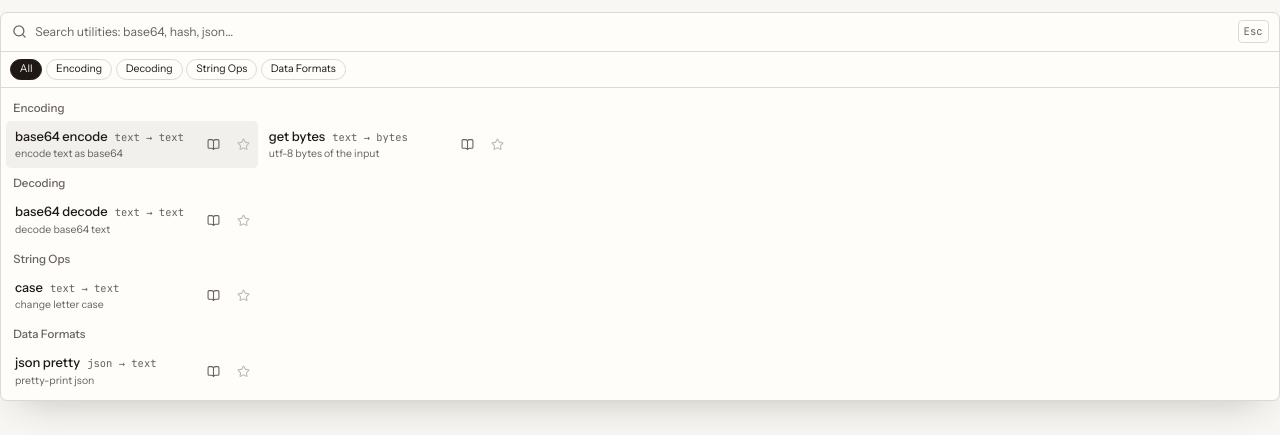
Test: UtilityPicker › toggles a favorite and shows it pinned (once) when the query is empty
Click the button named "Star case": (243, 296) [228, 272, 258, 319]
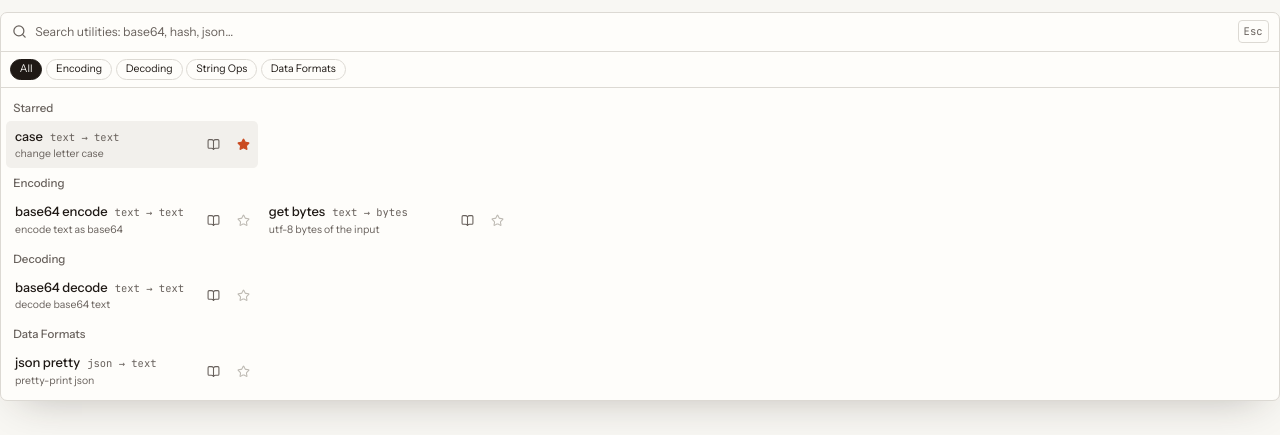
Check: the option "case text → text change letter case" is shown, box [6, 121, 258, 168]
Check: the text "case" is shown once, box [15, 128, 43, 145]
